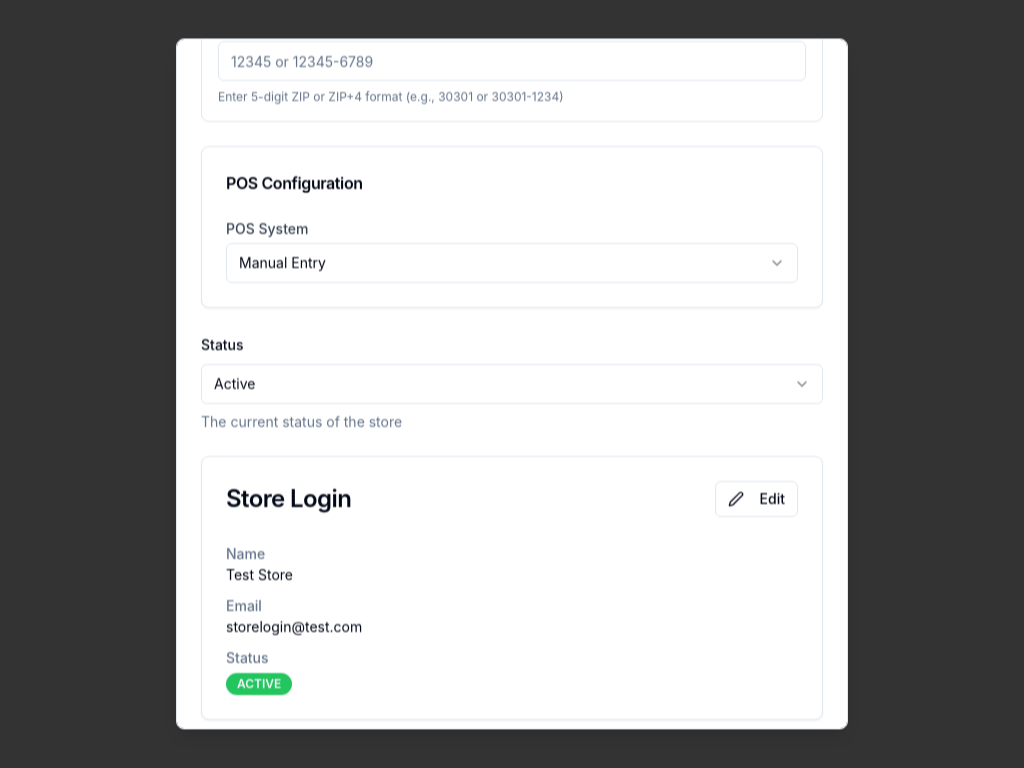
Test: 2.5-COMPONENT: EditStoreModal Component › Status Change Confirmation › [P0] 2.5-COMPONENT-008: should show confirmation dialog when status changes to CLOSED
(page scrolled)
User changes status to CLOSED
Step 1. Click the dropdown named "Status" → (235, 384), box left=201, top=364, right=823, bottom=404
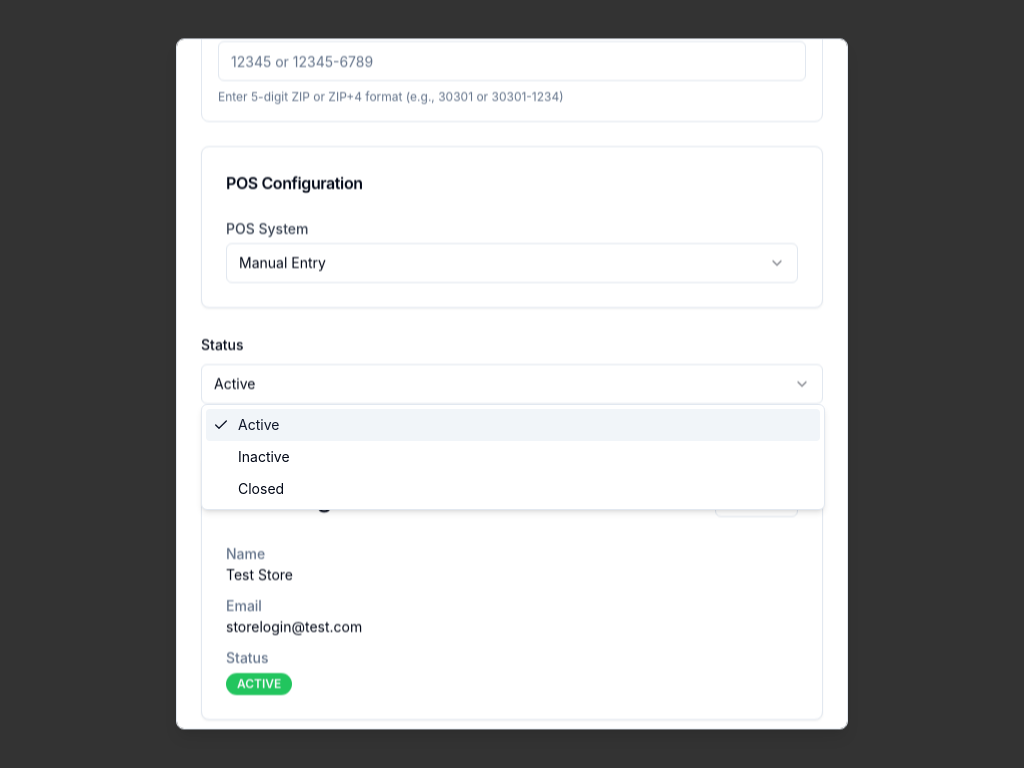
Use getByRole to find the option in the dropdown
Step 2. Click the option "Closed" → (261, 488), box left=238, top=480, right=284, bottom=497
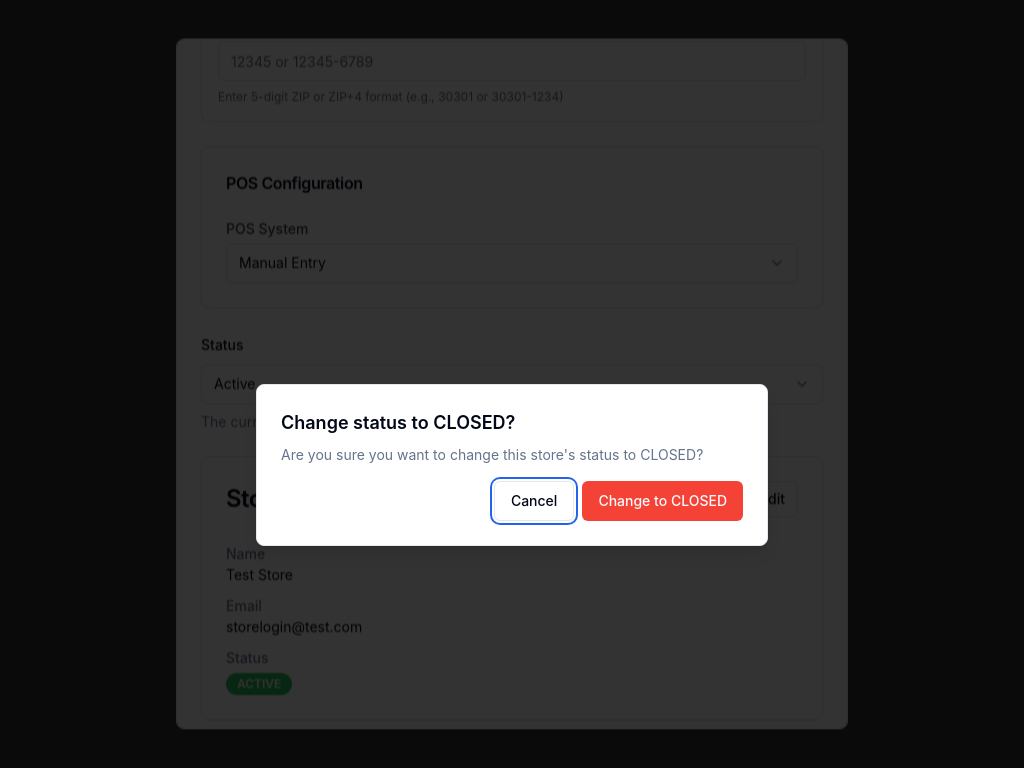
expect the heading "Change status to CLOSED?" is shown: met, box left=281, top=412, right=515, bottom=433
